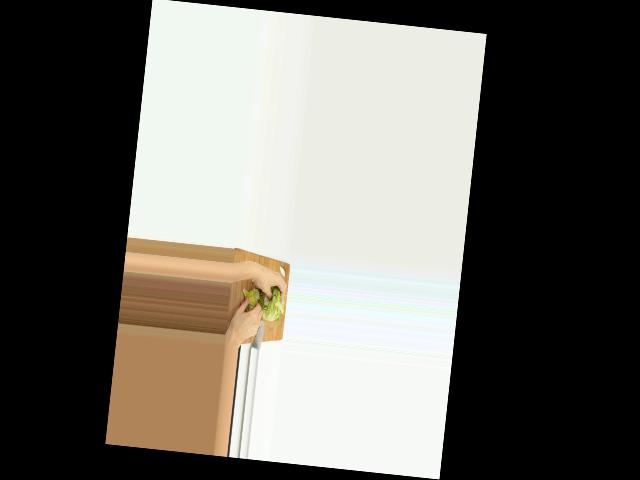lettuce: (258, 287, 285, 322)
